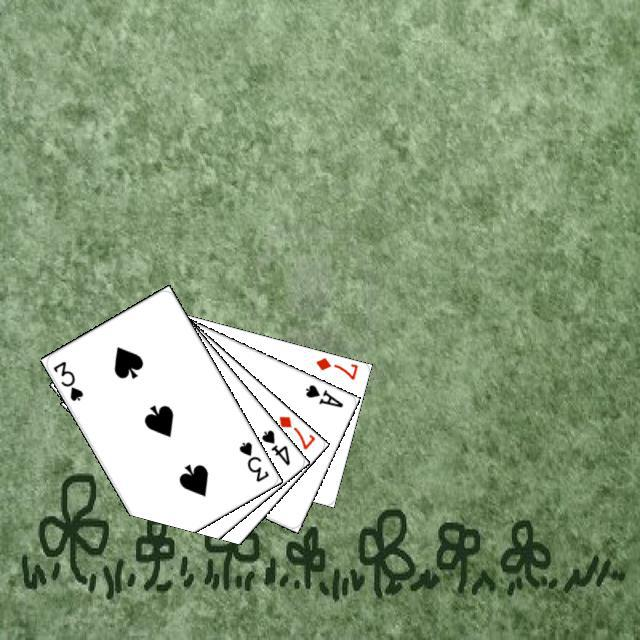3s: (48, 356, 85, 403), (234, 436, 270, 484)
4s: (256, 425, 292, 467)
7d: (274, 411, 316, 451), (311, 352, 359, 381)
As: (300, 379, 345, 409)
